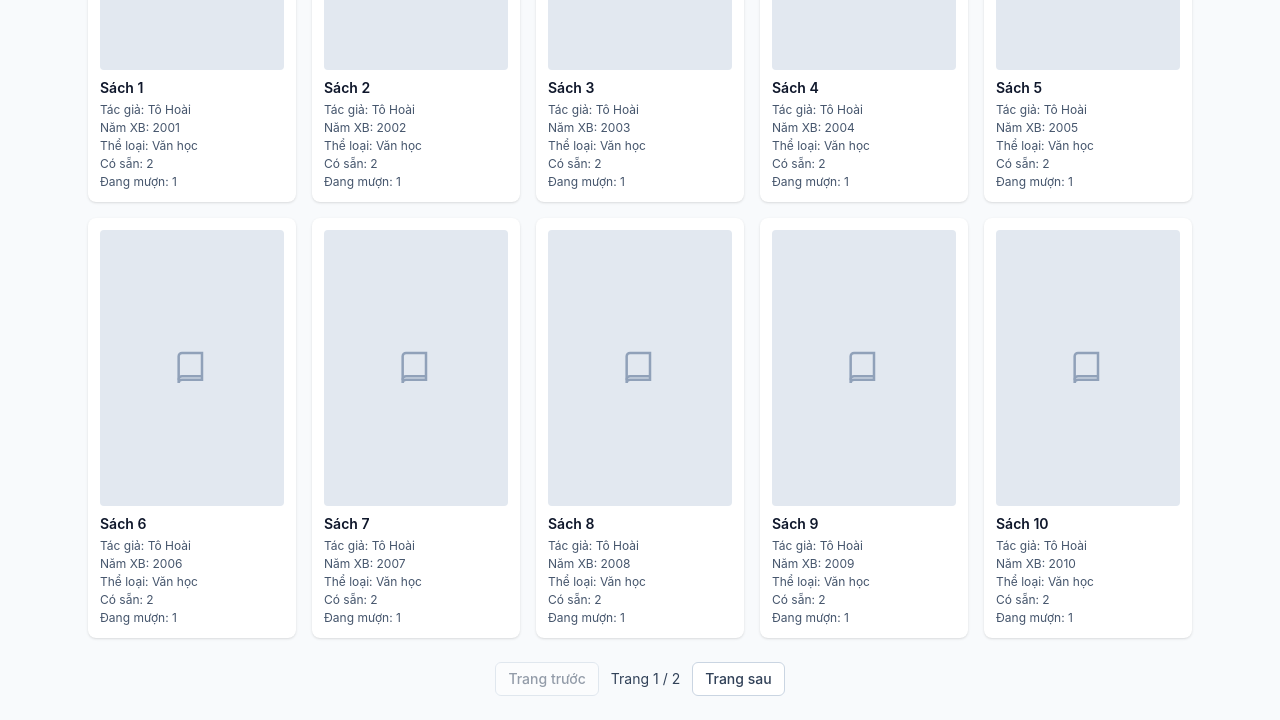
BooksPage (2.2.3) › phân trang: 10 sách/trang, nút trước/sau, ẩn khi chỉ 1 trang
(page scrolled)
expect the text "Trang 1 / 2" is shown: met, box x1=611 y1=669 x2=680 y2=689
expect the button "Trang trước" is disabled: met, box x1=495 y1=662 x2=599 y2=696
Click the button "Trang sau" at point(738, 679), box x1=692 y1=662 x2=785 y2=696
(page scrolled)
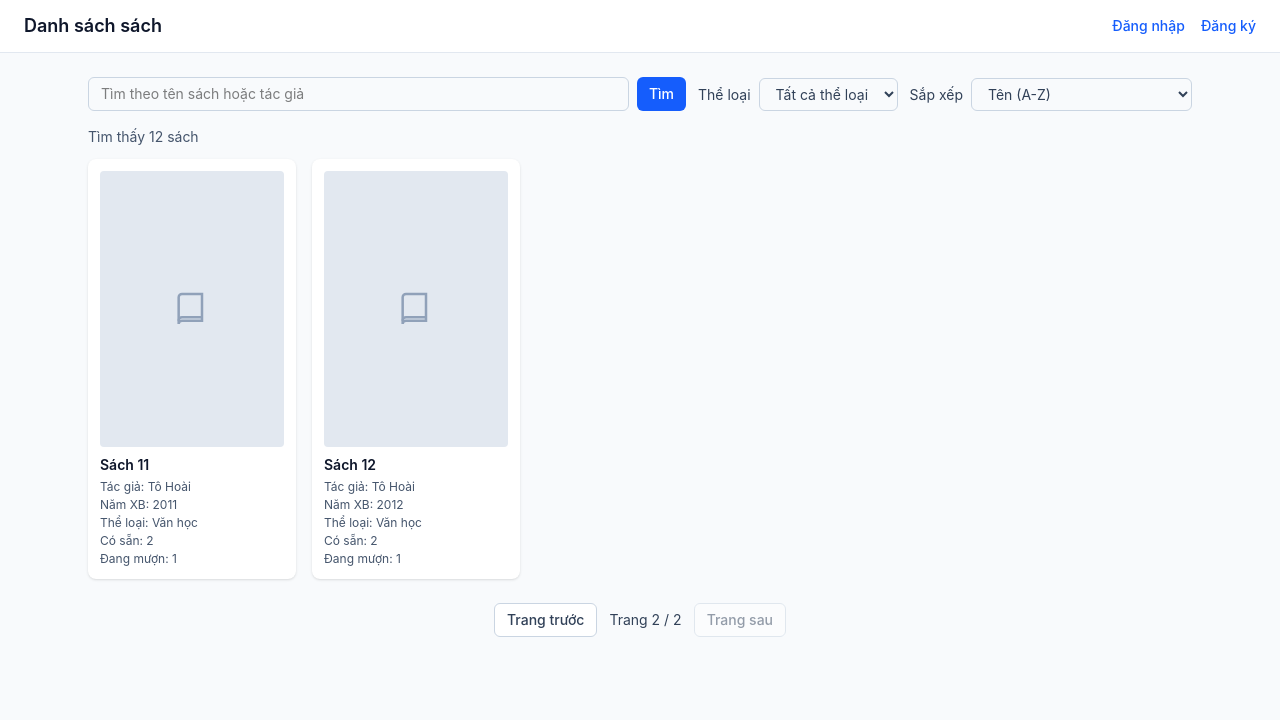
expect the element "Sách 12" is shown: met, box x1=324 y1=171 x2=508 y2=567
expect the button "Trang sau" is disabled: met, box x1=694 y1=603 x2=786 y2=637
